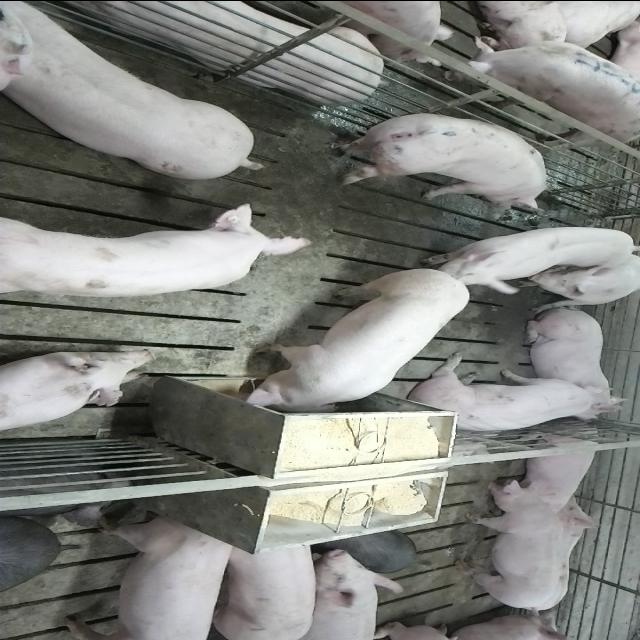Feeding: (236, 271, 473, 421)
Lateral_lying: (50, 0, 389, 100)
Sitting: (406, 356, 628, 436), (518, 240, 638, 304)
Standing: (4, 5, 268, 184), (1, 206, 314, 303), (319, 111, 552, 208), (444, 30, 640, 144), (63, 514, 242, 638), (413, 226, 634, 299), (452, 478, 560, 613), (279, 550, 403, 640), (212, 538, 318, 638)
Sternal_lying: (0, 348, 156, 432), (516, 310, 620, 416), (508, 428, 606, 510)
